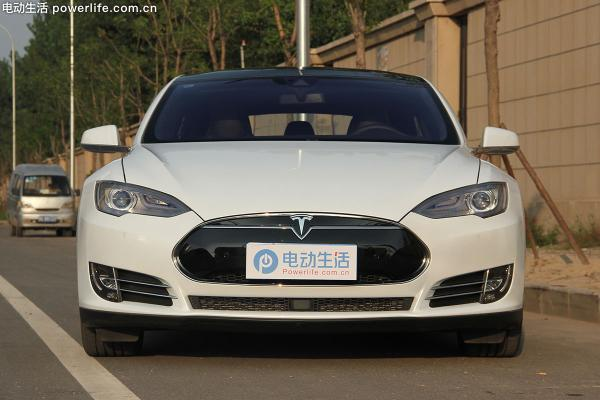Tesla: (290, 214, 313, 235)
